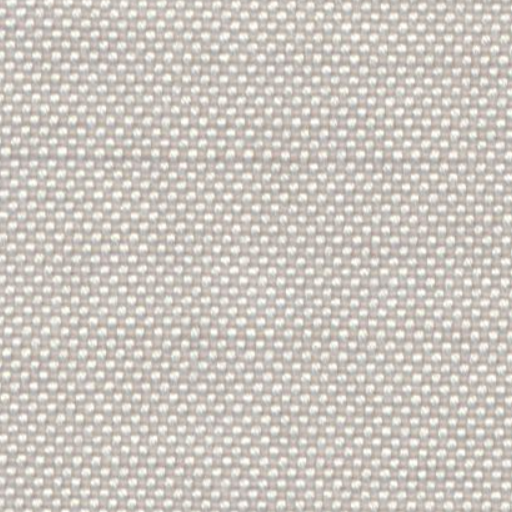TuoSha: (14, 127, 490, 190)
